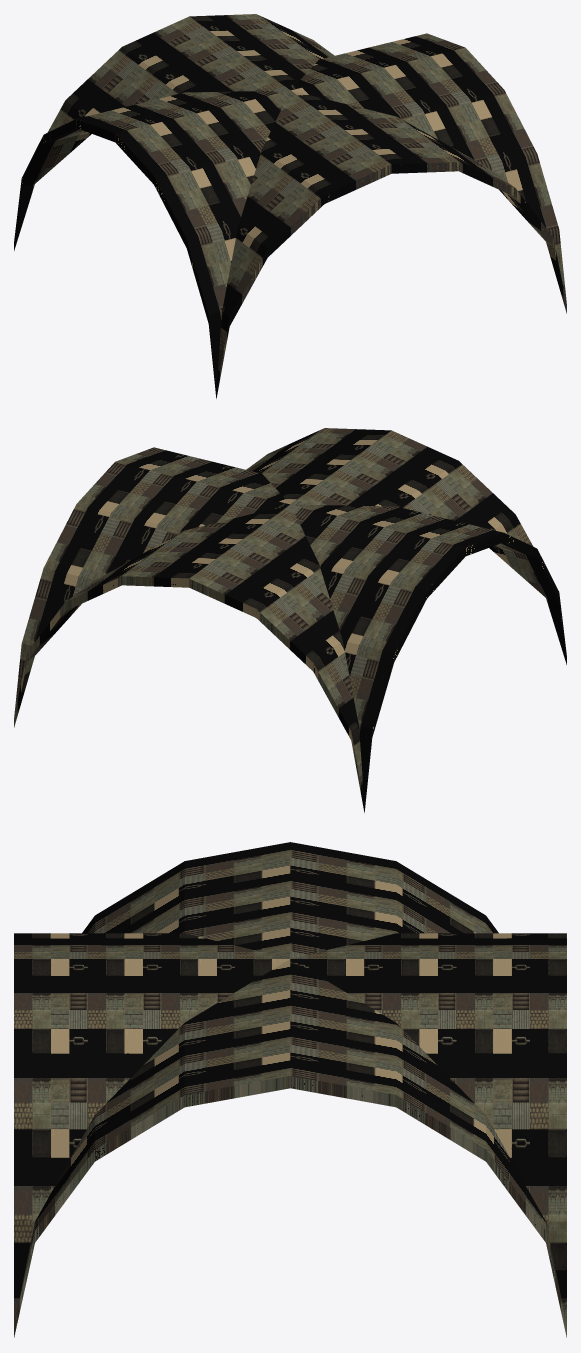
File: arch_roof.glb
3 renders of one model, top to bottom at view 1: azimuth 30°, elevation 25°; view 2: azimuth 150°, elevation 25°; view 3: azimuth 270°, elevation 25°, orthographic. The views are drawn at different scales.
Visible parts, largest first — view 1: arch_roof; view 2: arch_roof; view 3: arch_roof.
Part boxes in pixels (x1,y1,x2,y2): arch_roof: (14, 14, 566, 398); arch_roof: (14, 428, 566, 812); arch_roof: (14, 842, 566, 1337).
Size of the model in its own units: 4 by 2.1 by 4.
Materials: 1 (1 with a texture image).
